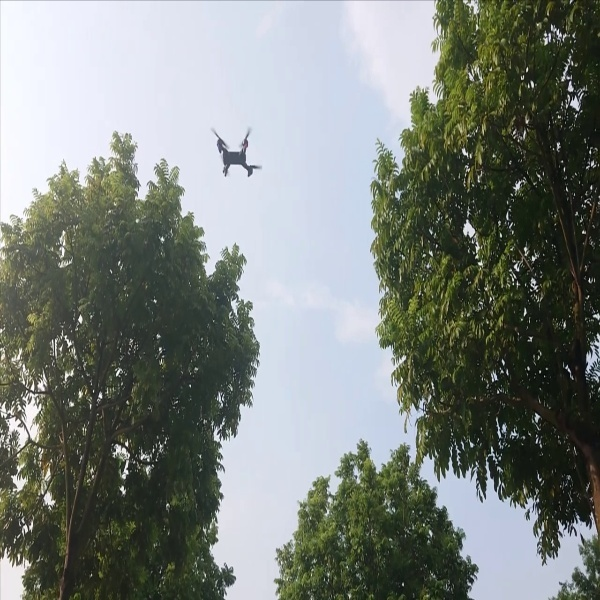drone: (207, 120, 265, 187)
